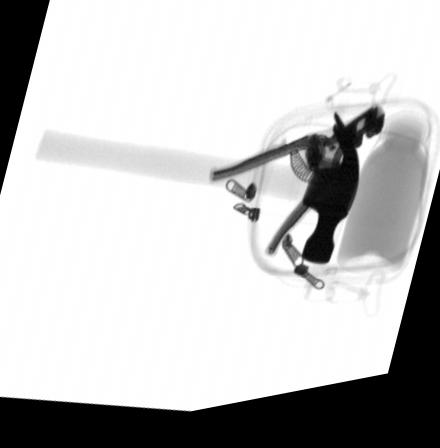Hammer: (34, 125, 360, 279)
Pliers: (210, 116, 387, 269)
